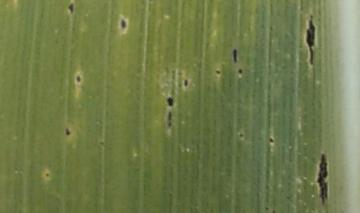tarspot: (314, 151, 331, 205), (305, 14, 317, 67), (166, 110, 173, 128), (119, 16, 127, 31), (66, 3, 75, 16), (74, 73, 83, 84), (165, 96, 174, 107), (232, 48, 238, 64), (63, 126, 72, 136), (266, 137, 275, 145), (182, 78, 189, 88), (214, 69, 222, 76), (262, 206, 270, 213), (238, 132, 245, 139), (237, 68, 243, 74), (44, 172, 50, 178), (270, 208, 276, 213)
